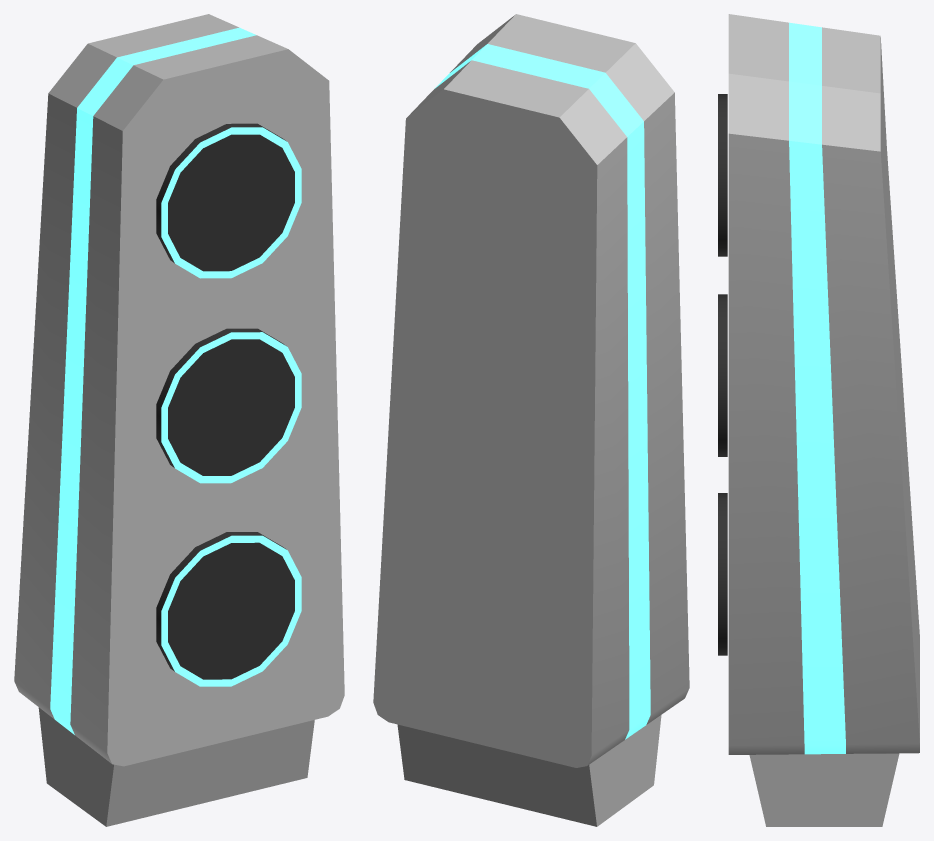
Rendered from Speaker_4.fbx.
3 views of the same model, side by side, from view 1: azimuth 30°, elevation 25°; view 2: azimuth 150°, elevation 25°; view 3: azimuth 270°, elevation 25° (orthographic). The views are drawn at different scales.
Parts seen in each view (by area): view 1: Speaker 4; view 2: Speaker 4; view 3: Speaker 4.
Boxes of the visible parts, x1=… form: Speaker 4: x1=14, y1=14, x2=344, y2=826; Speaker 4: x1=373, y1=14, x2=689, y2=826; Speaker 4: x1=718, y1=14, x2=919, y2=826.
Bounding box in the file's own units: 9.06 × 27.43 × 6.82.
